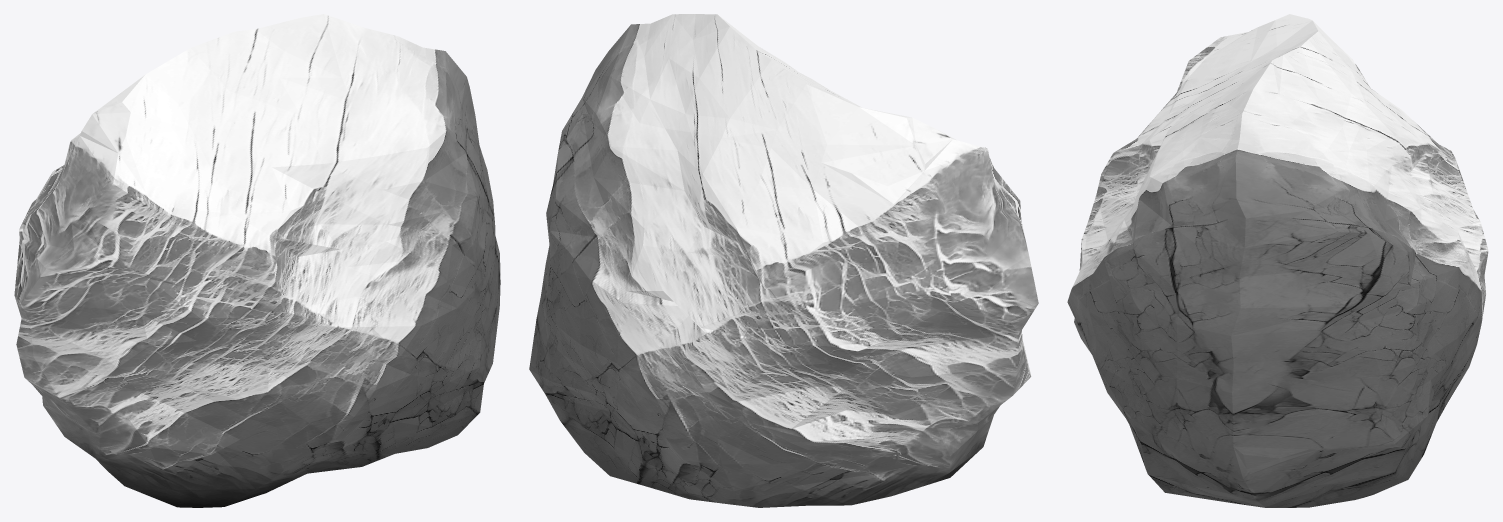
3 renders of one model, left to right at view 1: azimuth 30°, elevation 25°; view 2: azimuth 150°, elevation 25°; view 3: azimuth 270°, elevation 25°, orthographic. The views are drawn at different scales.
Parts seen in each view (by area): view 1: StoneC; view 2: StoneC; view 3: StoneC.
Part boxes in pixels (x1,y1,x2,y2): StoneC: (14,14,500,507); StoneC: (529,14,1038,507); StoneC: (1067,14,1488,507).
Bounding box in the file's own units: 0.6736 × 0.6084 × 0.5362.
Materials: 1 (1 with a texture image).
